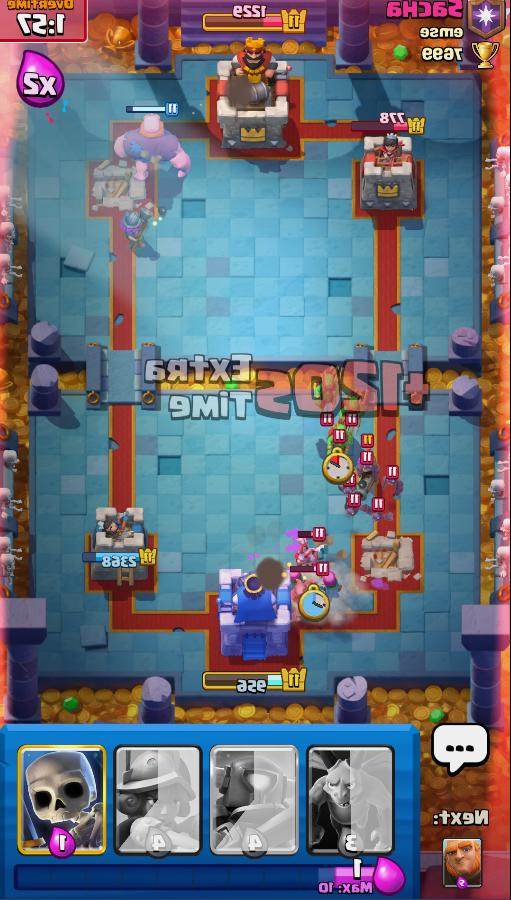archere: (283, 566, 313, 605), (314, 569, 343, 608)
bat: (372, 470, 410, 498), (359, 501, 397, 526), (353, 455, 385, 479), (334, 495, 367, 518), (333, 482, 362, 498)
gargouille: (285, 540, 332, 576)
geant: (103, 110, 197, 184)
gobelin_lances: (303, 368, 344, 417), (336, 386, 372, 431), (322, 424, 354, 461)
mousquetaire: (115, 201, 155, 259)
